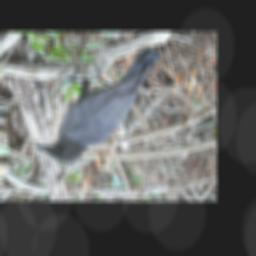Crow: (34, 45, 163, 163)
